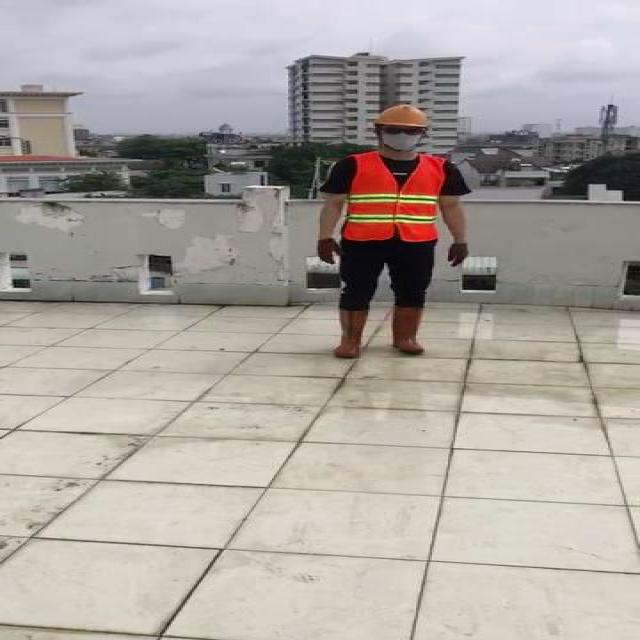boots: (329, 307, 371, 357), (389, 305, 428, 354)
face_mask: (380, 124, 425, 152)
glasses: (378, 125, 429, 139)
hand_glove: (445, 240, 471, 270), (318, 238, 345, 265)
head_helmet: (379, 102, 432, 128)
person: (306, 99, 482, 361)
vest: (345, 156, 444, 243)
